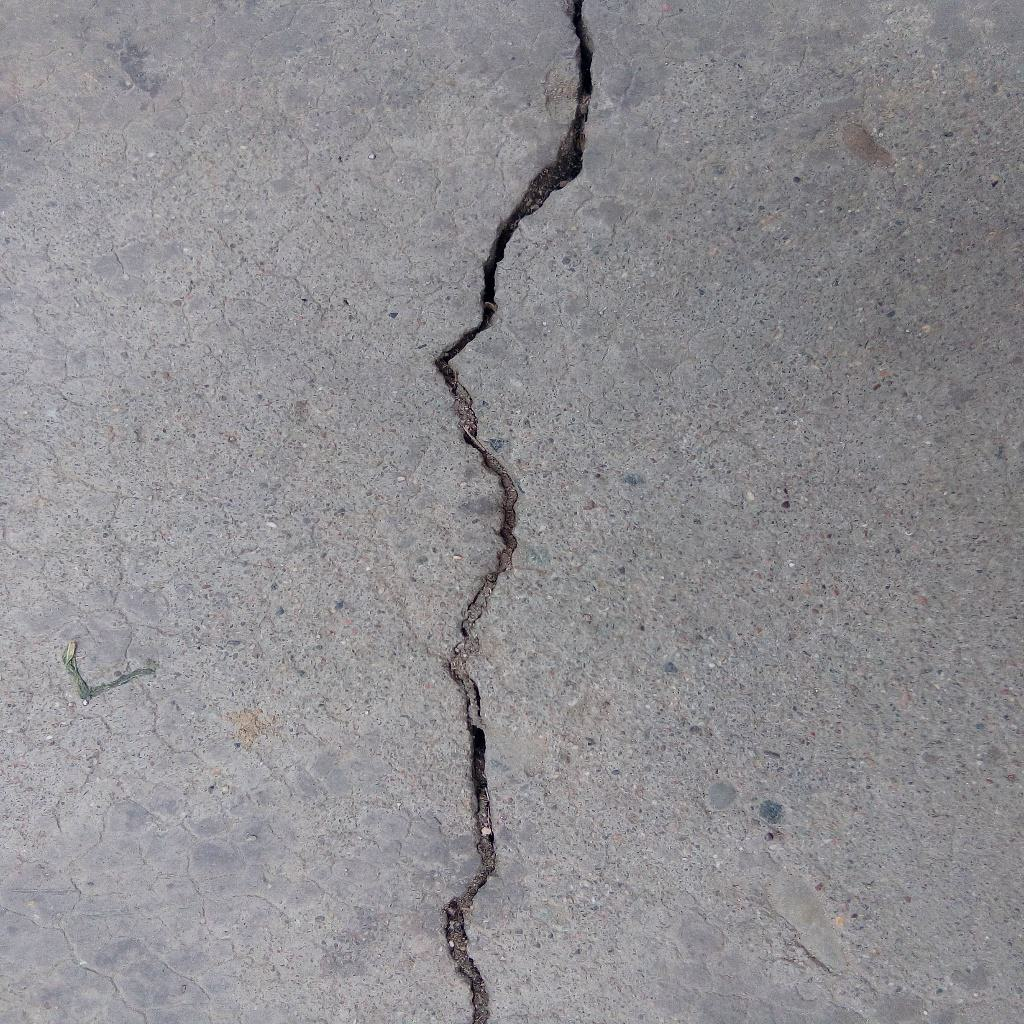Crack: (430, 1, 595, 1024)
